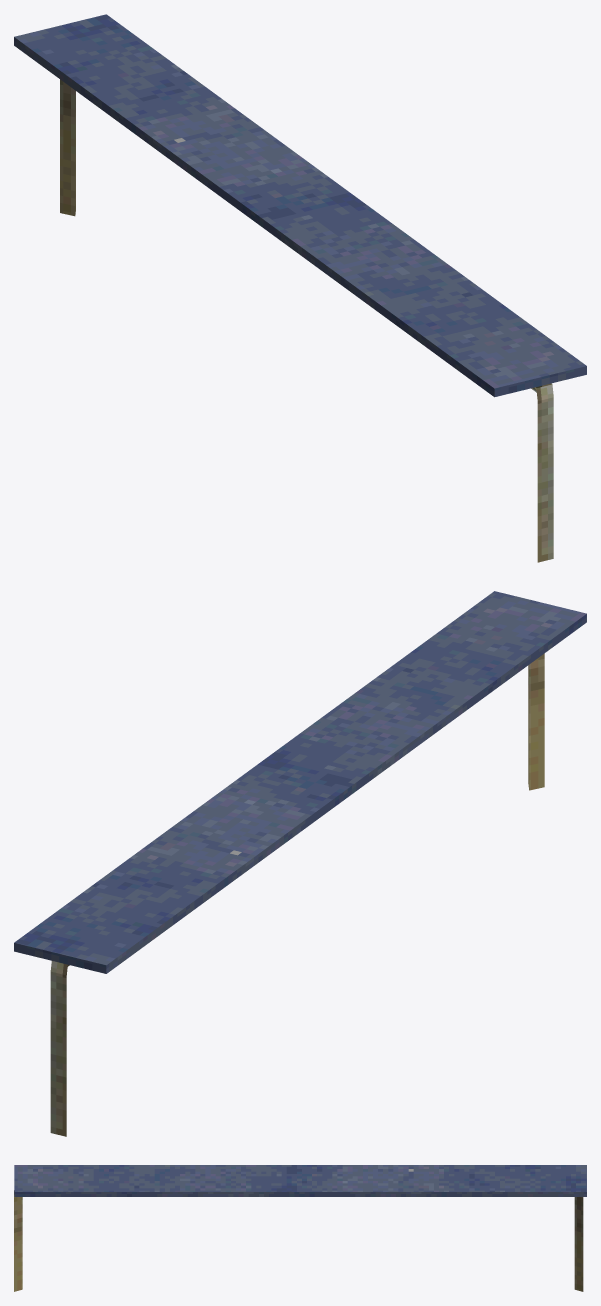
Rendered from busstop_bench_long_alt.glb.
3 renders of one model, top to bottom at view 1: azimuth 30°, elevation 25°; view 2: azimuth 150°, elevation 25°; view 3: azimuth 270°, elevation 25°, orthographic. The views are drawn at different scales.
Parts seen in each view (by area): view 1: busstop_bench_long_alt; view 2: busstop_bench_long_alt; view 3: busstop_bench_long_alt.
Boxes of the visible parts, bbox=[...] form: busstop_bench_long_alt: bbox=[14, 14, 586, 562]; busstop_bench_long_alt: bbox=[14, 591, 586, 1136]; busstop_bench_long_alt: bbox=[14, 1165, 586, 1291].
Bounding box in the file's own units: 0.4 × 0.7619 × 3.6.
1 material, 1 textured.
